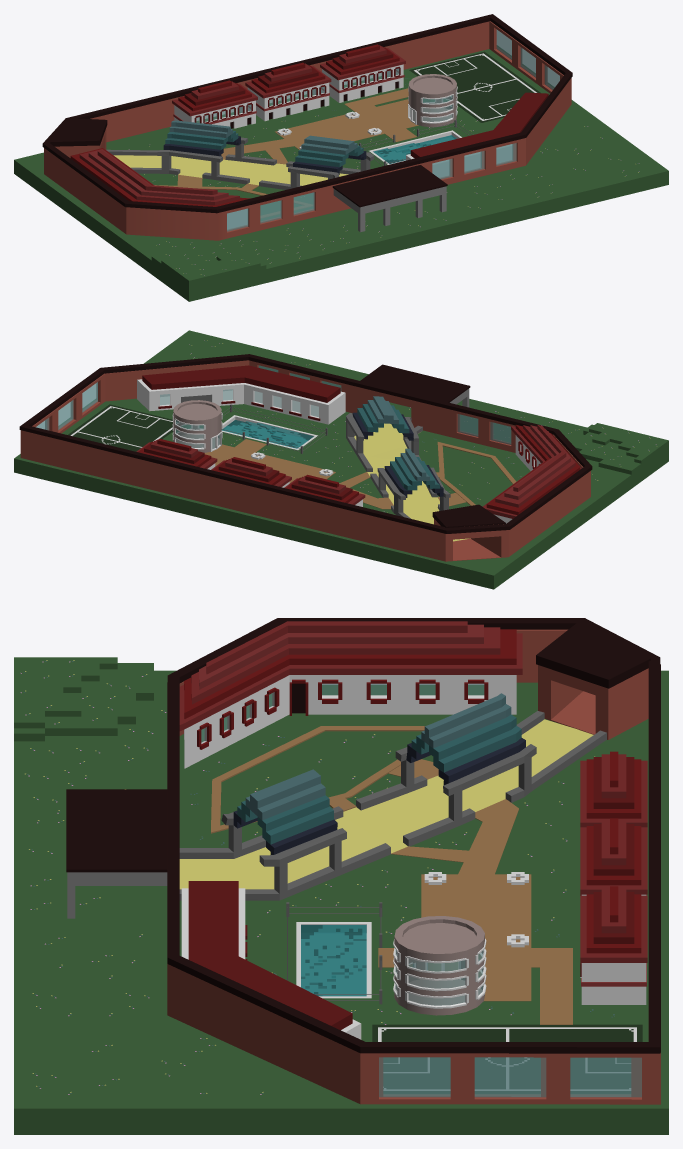
File: BTR_Escenario_02.fbx
The picture shows the model from 3 angles, top to bottom: view 1: azimuth 30°, elevation 25°; view 2: azimuth 150°, elevation 25°; view 3: azimuth 270°, elevation 25°; orthographic projection. The views are drawn at different scales.
Visible parts, largest first — view 1: Building, Floor, Cancha, Water; view 2: Building, Floor, Cancha, Water, Cerca; view 3: Building, Floor, Cancha, Water, Macetas.
Part boxes in pixels (x1=…): Building: x1=42, y1=14, x2=572, y2=240; Floor: x1=14, y1=45, x2=668, y2=301; Cancha: x1=409, y1=51, x2=540, y2=122; Water: x1=373, y1=135, x2=456, y2=163; Building: x1=19, y1=354, x2=592, y2=561; Floor: x1=14, y1=330, x2=668, y2=589; Cancha: x1=68, y1=404, x2=177, y2=451; Water: x1=222, y1=420, x2=313, y2=448; Cerca: x1=221, y1=404, x2=327, y2=453; Building: x1=66, y1=618, x2=660, y2=1104; Floor: x1=14, y1=657, x2=668, y2=1134; Cancha: x1=372, y1=1024, x2=642, y2=1093; Water: x1=301, y1=925, x2=366, y2=996; Macetas: x1=424, y1=872, x2=528, y2=947.
Bounding box in the file's own units: 169 × 19.18 × 107.
